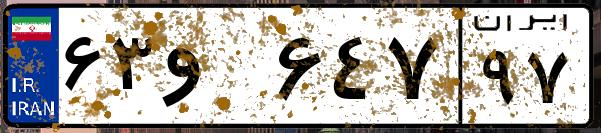3: (110, 28, 158, 98)
4: (330, 28, 385, 110)
6: (270, 28, 330, 110), (57, 26, 110, 100)
7: (385, 28, 445, 110), (525, 38, 570, 115)
9: (475, 38, 525, 113)
و: (158, 20, 270, 120)
